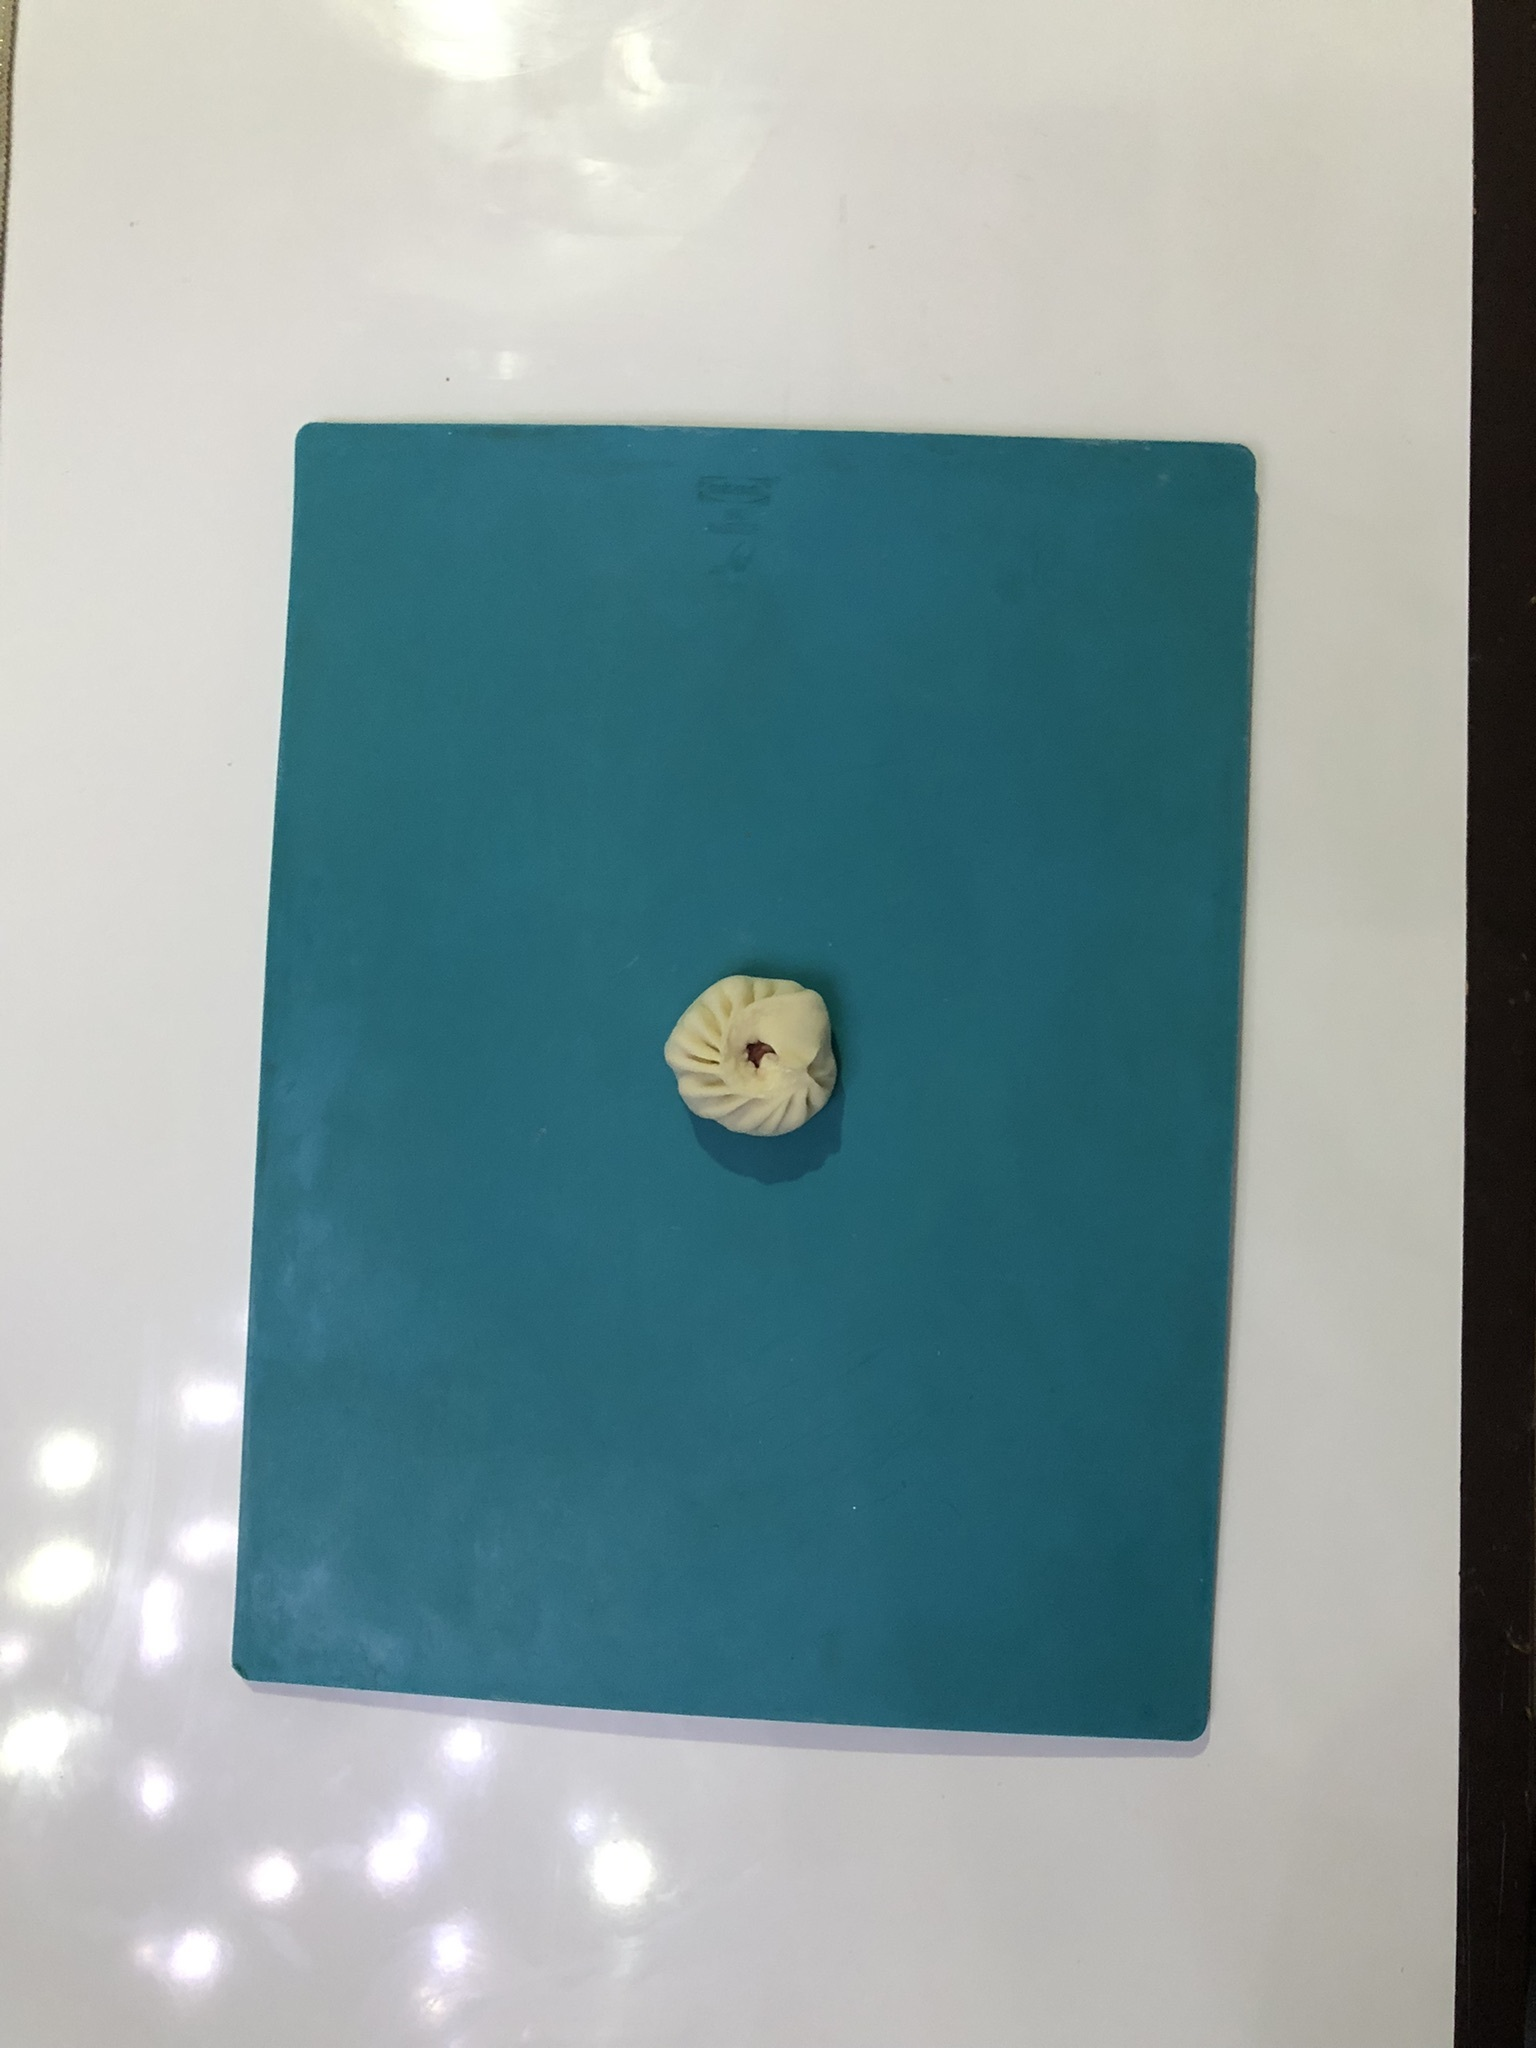buuz: (652, 961, 862, 1163)
